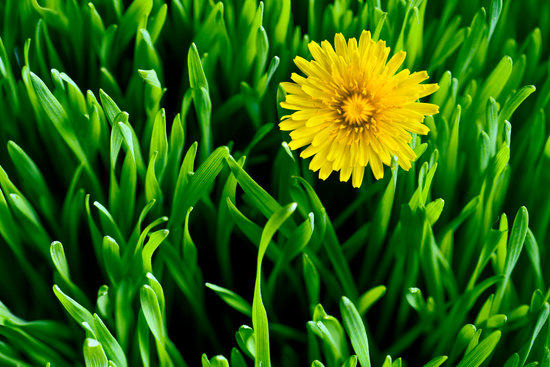dandelion: (273, 40, 446, 185)
